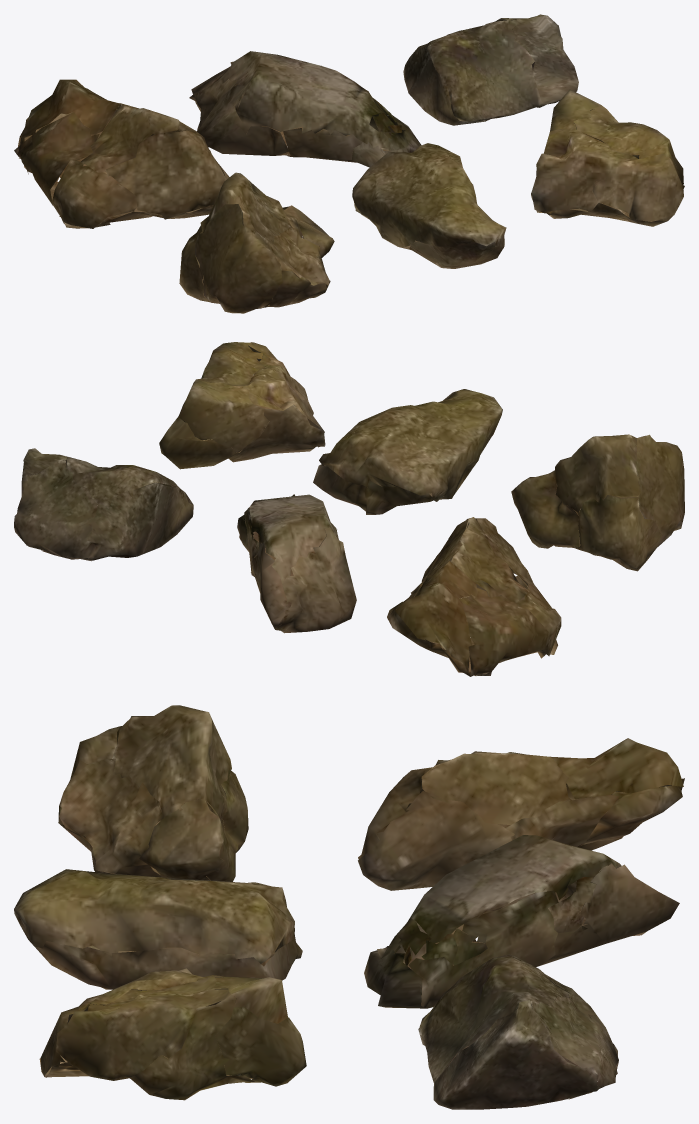
The model's file is rock_stream.glb.
3 views of the same model, one above another, from view 1: azimuth 30°, elevation 25°; view 2: azimuth 150°, elevation 25°; view 3: azimuth 270°, elevation 25° (orthographic). The views are drawn at different scales.
Visible parts, largest first — view 1: rock_moss_set_01_rock01, rock_moss_set_01_rock02, rock_moss_set_01_rock06, rock_moss_set_01_rock04, rock_moss_set_01_rock03, rock_moss_set_01_rock05; view 2: rock_moss_set_01_rock04, rock_moss_set_01_rock01, rock_moss_set_01_rock05, rock_moss_set_01_rock03, rock_moss_set_01_rock06, rock_moss_set_01_rock02; view 3: rock_moss_set_01_rock01, rock_moss_set_01_rock02, rock_moss_set_01_rock05, rock_moss_set_01_rock04, rock_moss_set_01_rock06, rock_moss_set_01_rock03.
Part boxes in pixels (left/top/right/bottom): rock_moss_set_01_rock01: left=14, top=79, right=229, bottom=228; rock_moss_set_01_rock02: left=189, top=51, right=421, bottom=167; rock_moss_set_01_rock06: left=531, top=89, right=684, bottom=226; rock_moss_set_01_rock04: left=179, top=172, right=334, bottom=313; rock_moss_set_01_rock03: left=403, top=14, right=578, bottom=125; rock_moss_set_01_rock05: left=352, top=143, right=506, bottom=268; rock_moss_set_01_rock04: left=511, top=434, right=684, bottom=571; rock_moss_set_01_rock01: left=387, top=517, right=561, bottom=676; rock_moss_set_01_rock05: left=313, top=389, right=502, bottom=514; rock_moss_set_01_rock03: left=14, top=448, right=193, bottom=561; rock_moss_set_01_rock06: left=159, top=342, right=325, bottom=469; rock_moss_set_01_rock02: left=237, top=494, right=356, bottom=633; rock_moss_set_01_rock01: left=358, top=738, right=684, bottom=890; rock_moss_set_01_rock02: left=364, top=835, right=679, bottom=1008; rock_moss_set_01_rock05: left=14, top=869, right=302, bottom=989; rock_moss_set_01_rock04: left=58, top=705, right=248, bottom=881; rock_moss_set_01_rock06: left=39, top=968, right=306, bottom=1100; rock_moss_set_01_rock03: left=418, top=954, right=618, bottom=1109.
Bounding box in the file's own units: 8.02 × 1.77 × 6.95.
Materials: 1 (1 with a texture image).
